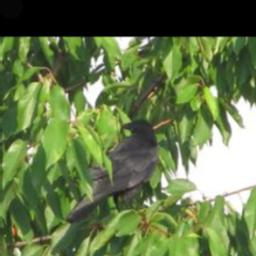Crow: (64, 117, 160, 223)
